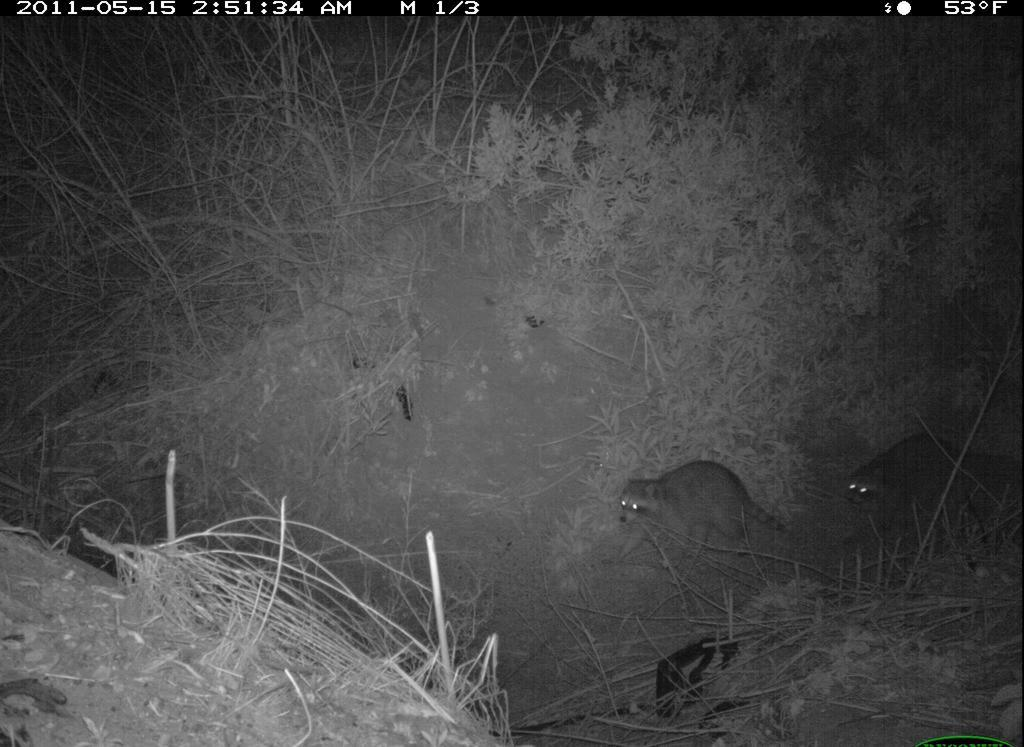raccoon: (611, 449, 792, 557), (843, 424, 1013, 516)
